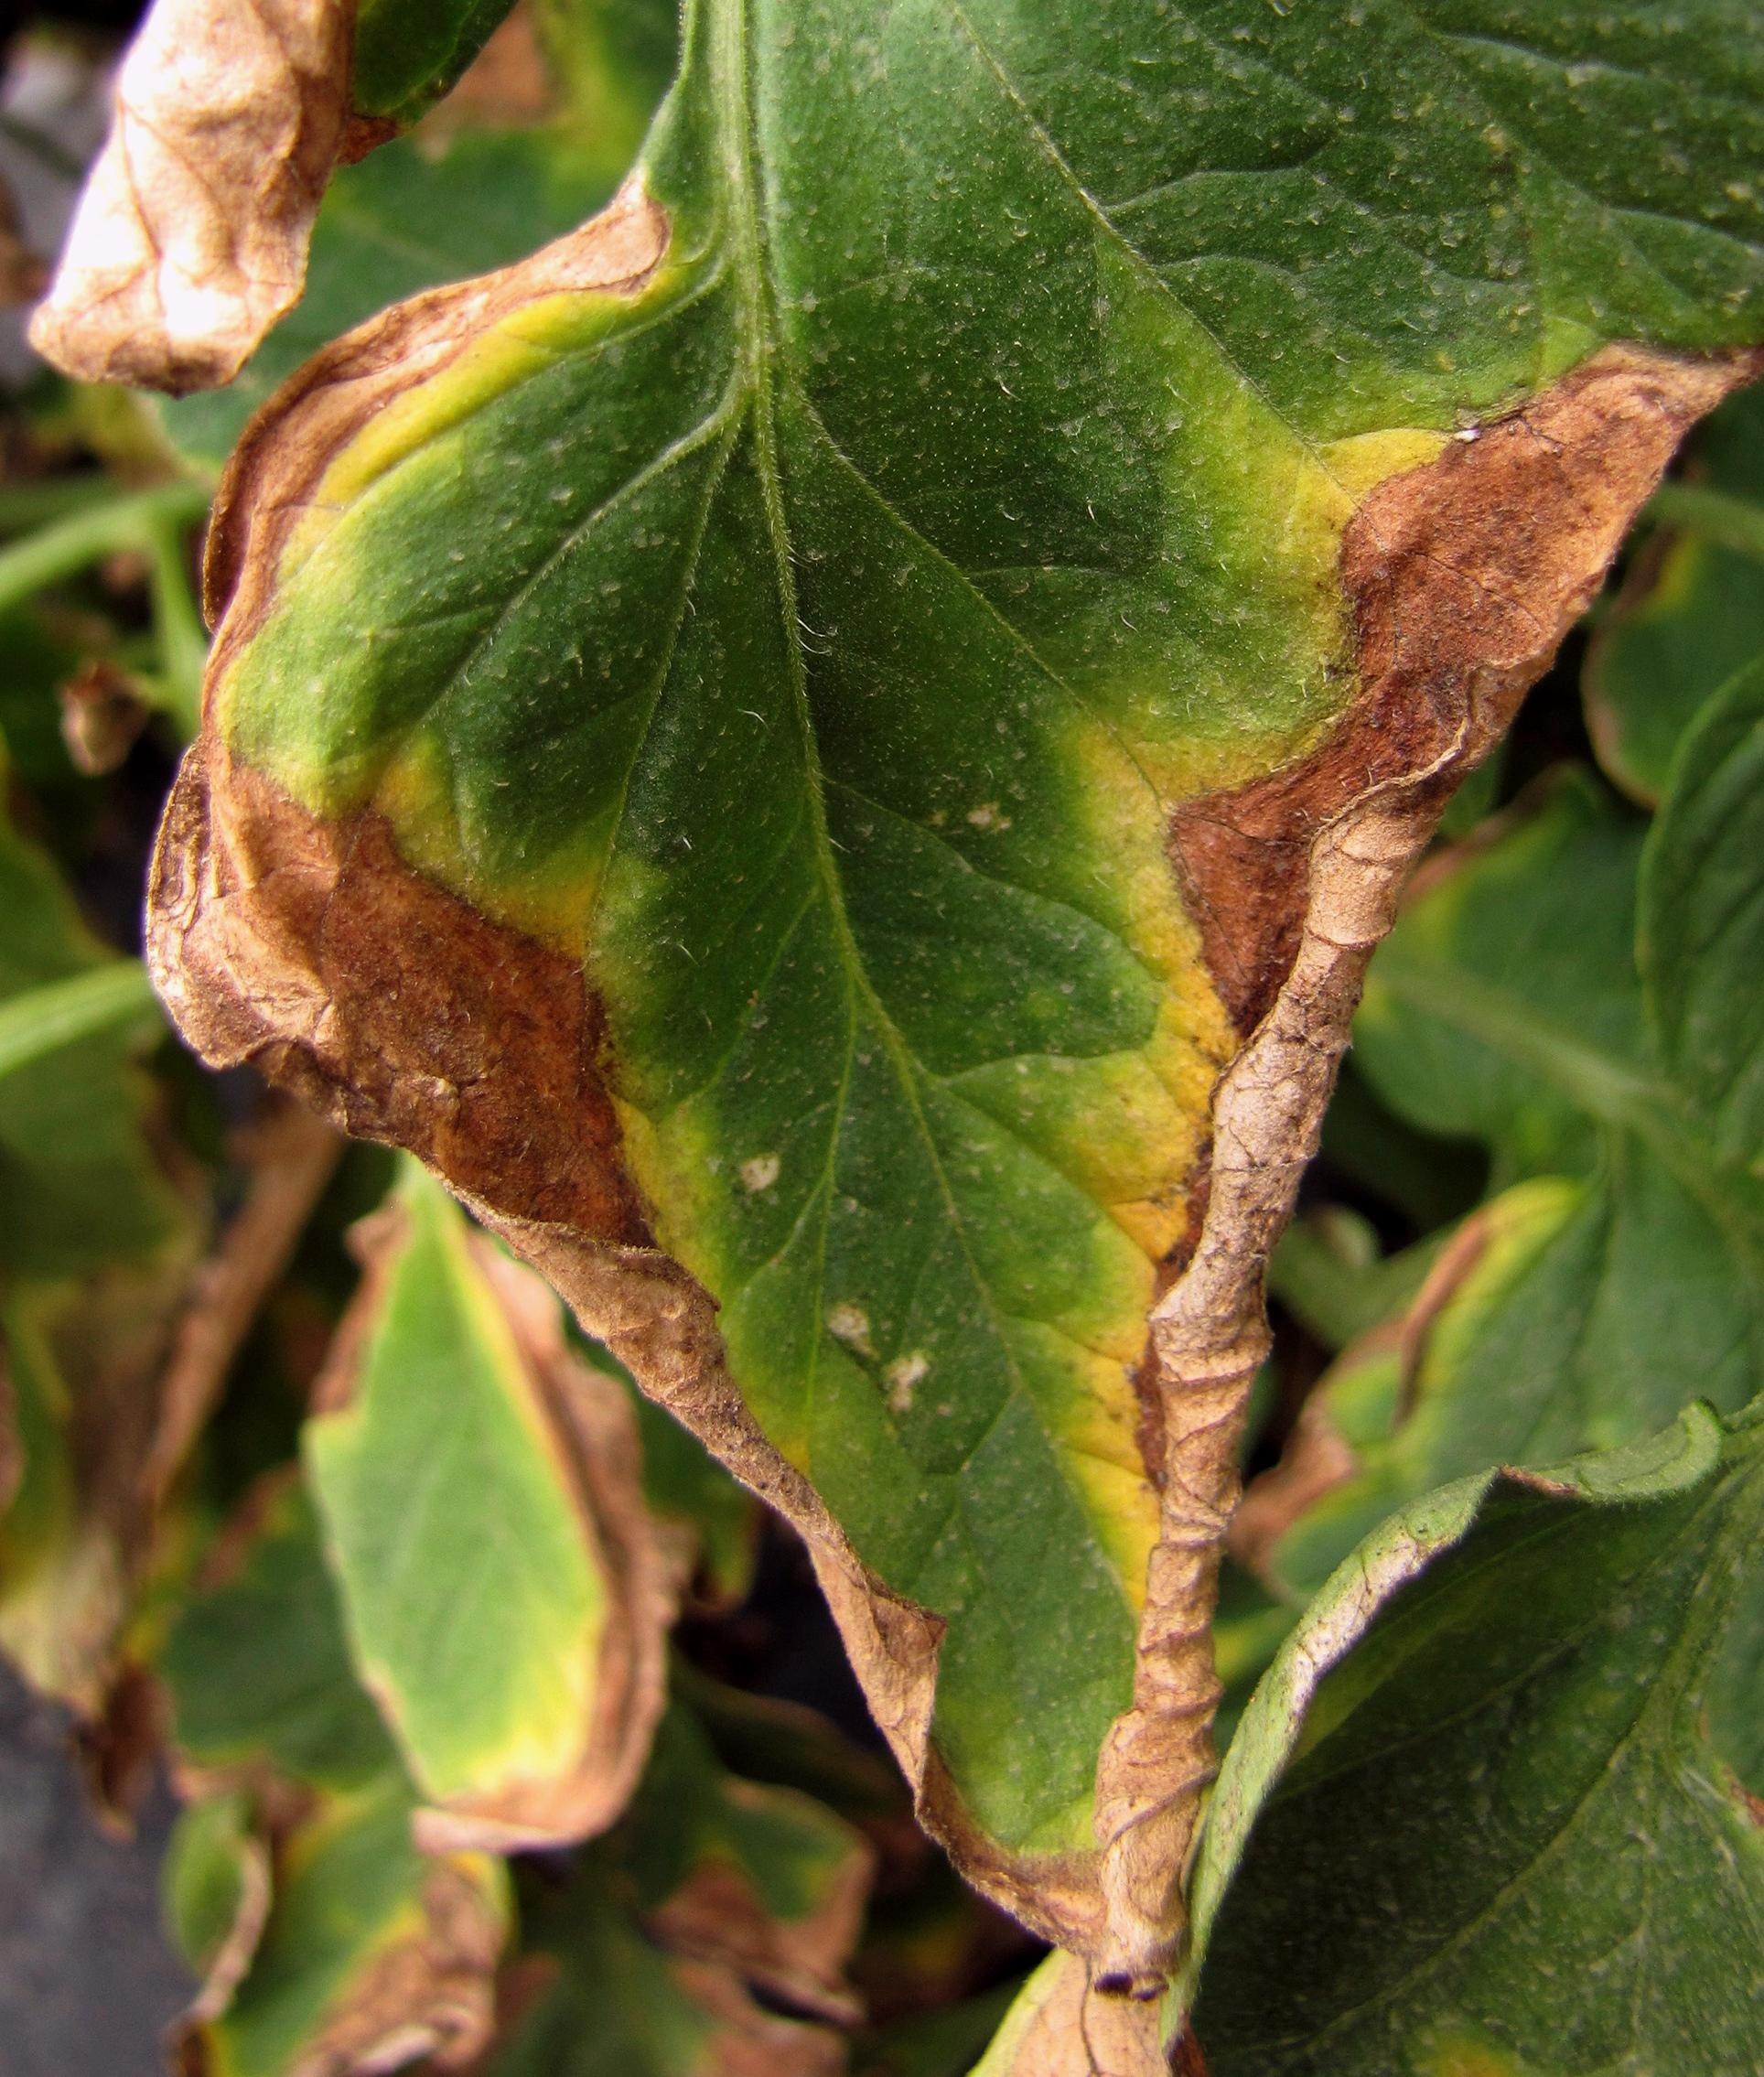Tomato leaf bacterial spot: (0, 0, 1764, 2026)
